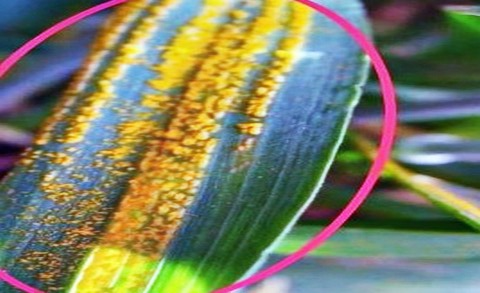Leaf Rust: (56, 8, 308, 248)
